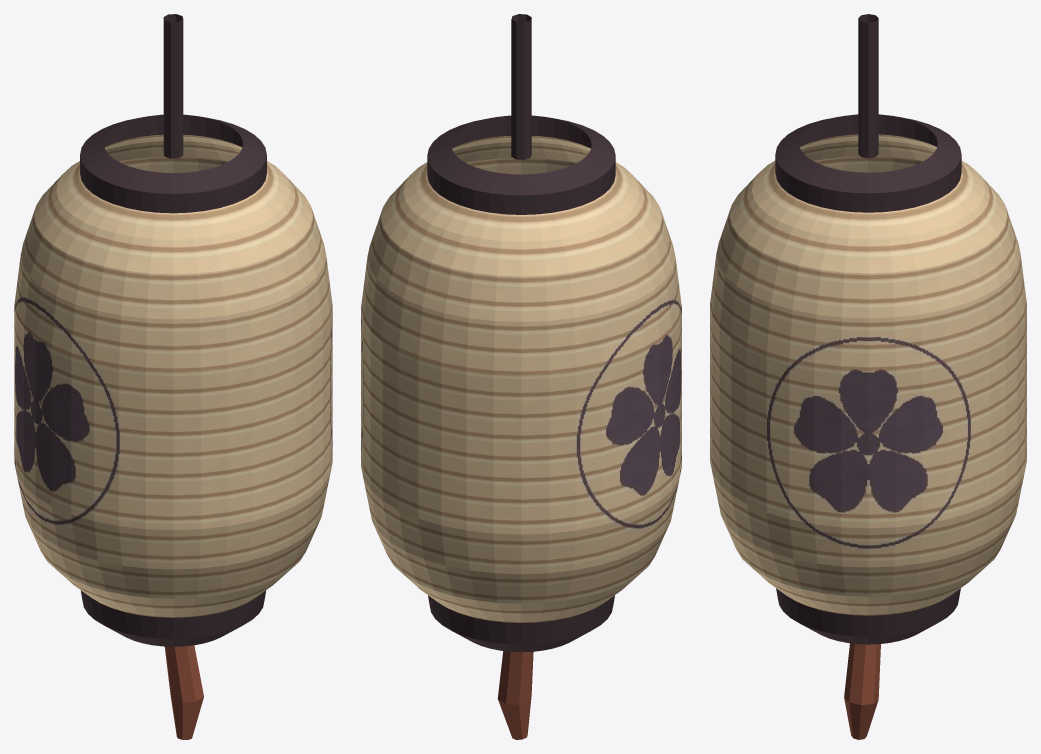
Rendered from paper_lantern.gltf.
3 renders of one model, left to right at view 1: azimuth 30°, elevation 25°; view 2: azimuth 150°, elevation 25°; view 3: azimuth 270°, elevation 25°, orthographic.
Parts seen in each view (by area): view 1: paper_lantern; view 2: paper_lantern; view 3: paper_lantern.
Boxes of the visible parts, box(x1,y1,x2,y2) form: paper_lantern: box(14, 14, 332, 739); paper_lantern: box(361, 14, 681, 739); paper_lantern: box(710, 14, 1026, 739).
Size of the model in its own units: 0.402 by 1 by 0.402.
3 materials, 1 textured.
